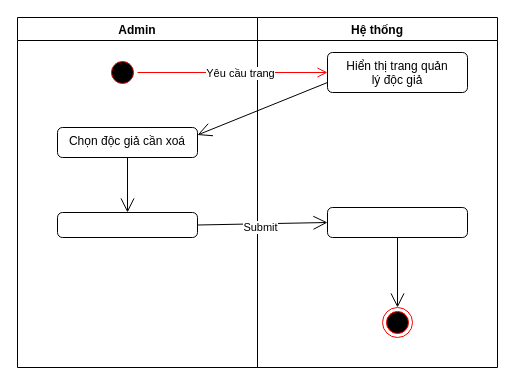
Some shapes in this 515 by 385 pixel diagram are drawn without their labels. Each missing label, with the centre of its shape:
Cập nhật cơ sở dữ liệu: (397,222)
Ấn nút xoá: (127,225)
